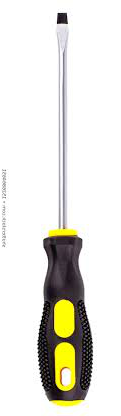screwdriver: (32, 1, 105, 410)
